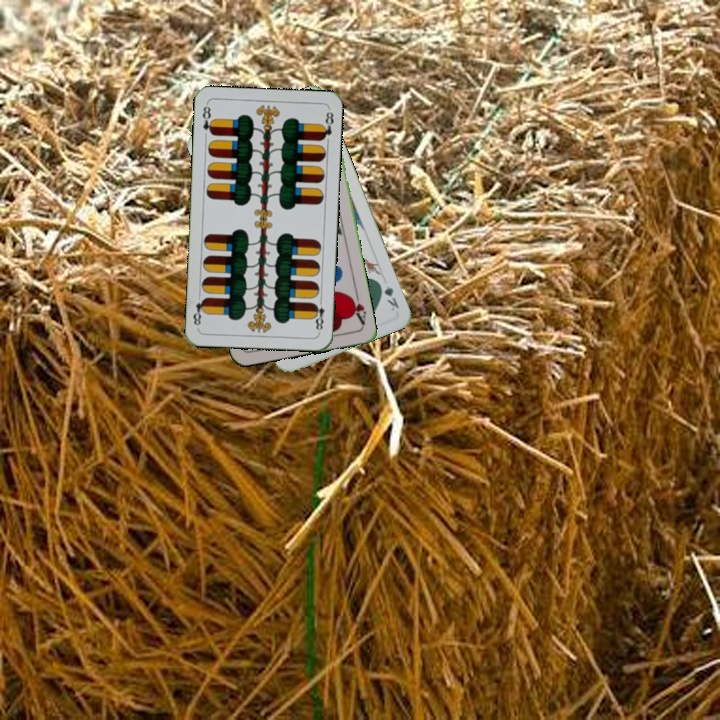E8: (309, 294, 327, 335), (198, 101, 216, 142)
GK: (375, 277, 402, 313)
HA: (345, 288, 369, 328)
